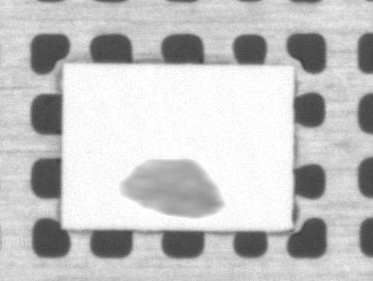DIE_INK: (142, 114, 315, 170)
